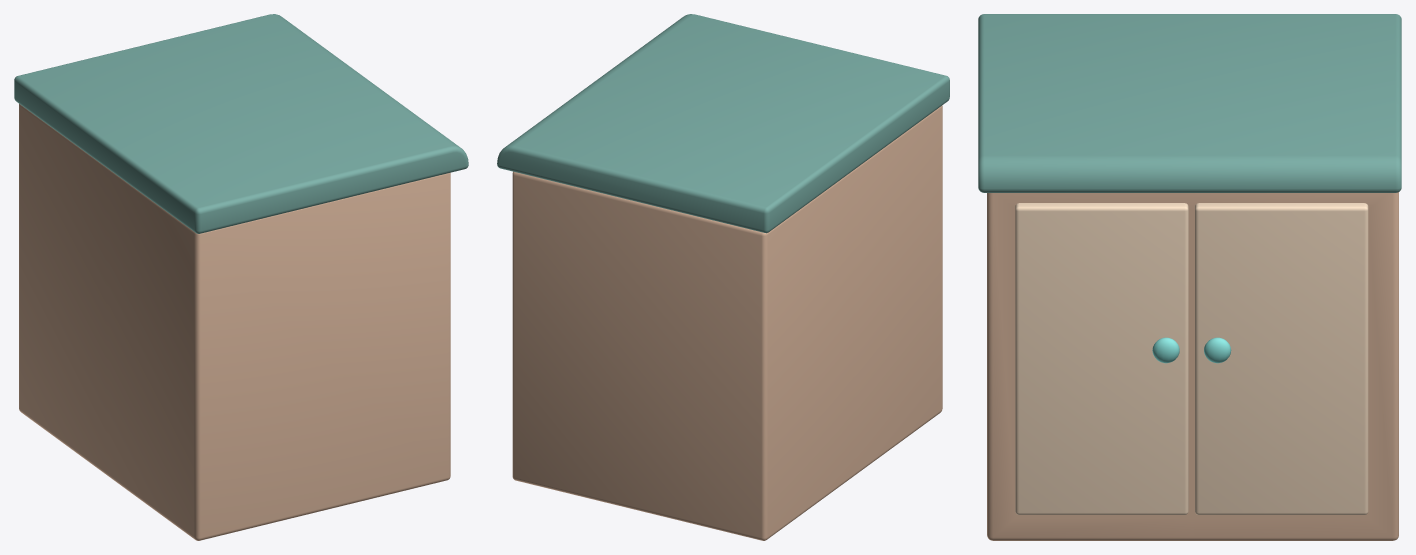
The model's file is blat.fbx.
The picture shows the model from 3 angles, left to right: view 1: azimuth 30°, elevation 25°; view 2: azimuth 150°, elevation 25°; view 3: azimuth 270°, elevation 25°; orthographic projection. The views are drawn at different scales.
Parts seen in each view (by area): view 1: Cube.001, Cube.003; view 2: Cube.001, Cube.003; view 3: Cube.004, Cube.003, Cube.001, Sphere.
Part boxes in pixels (x1,y1,x2,y2): Cube.001: (19,104,450,540); Cube.003: (14,14,468,233); Cube.001: (512,105,942,540); Cube.003: (497,14,949,233); Cube.004: (1015,203,1368,514); Cube.003: (978,14,1401,192); Cube.001: (987,192,1398,540); Sphere: (1152,337,1231,363).
Bounding box in the file's own units: 608 × 528 × 610.
